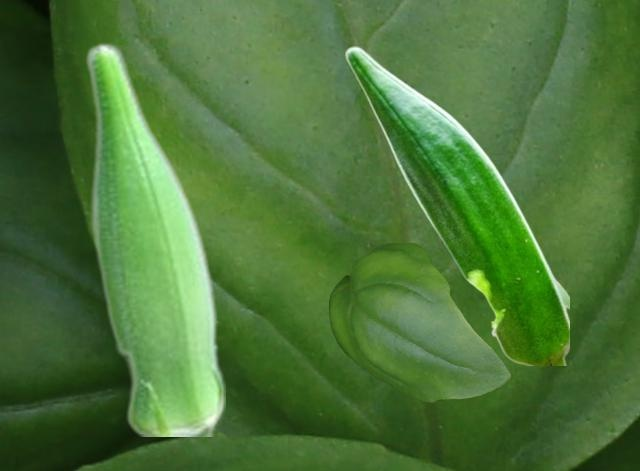okra: (344, 46, 568, 364), (84, 42, 224, 435)
